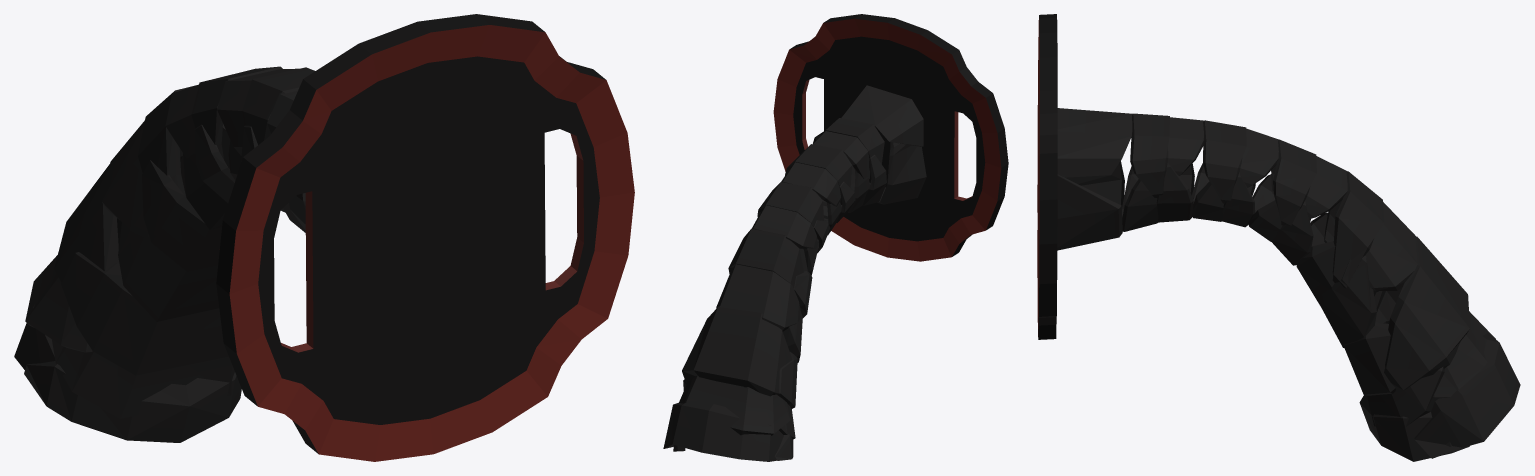
The model's file is smallCrossbowSamuraiSimpleHandle.glb.
3 renders of one model, left to right at view 1: azimuth 30°, elevation 25°; view 2: azimuth 150°, elevation 25°; view 3: azimuth 270°, elevation 25°, orthographic. The views are drawn at different scales.
Parts seen in each view (by area): view 1: smallCrossbowSamuraiSimpleHandle; view 2: smallCrossbowSamuraiSimpleHandle; view 3: smallCrossbowSamuraiSimpleHandle.
Part boxes in pixels (x1,y1,x2,y2): smallCrossbowSamuraiSimpleHandle: (14,14,634,461); smallCrossbowSamuraiSimpleHandle: (663,14,1008,461); smallCrossbowSamuraiSimpleHandle: (1037,14,1520,461).
Size of the model in its own units: 0.1557 by 0.2153 by 0.2347.
